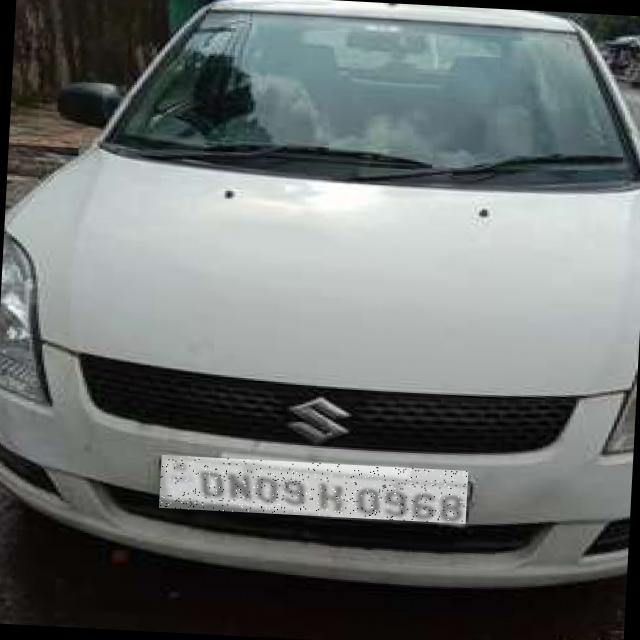Plate: (160, 456, 469, 525)
